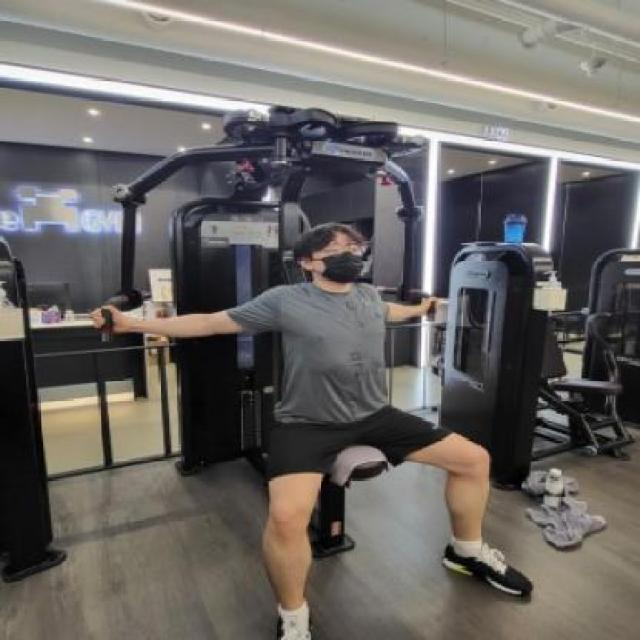chest fly machine: (60, 91, 540, 640)
